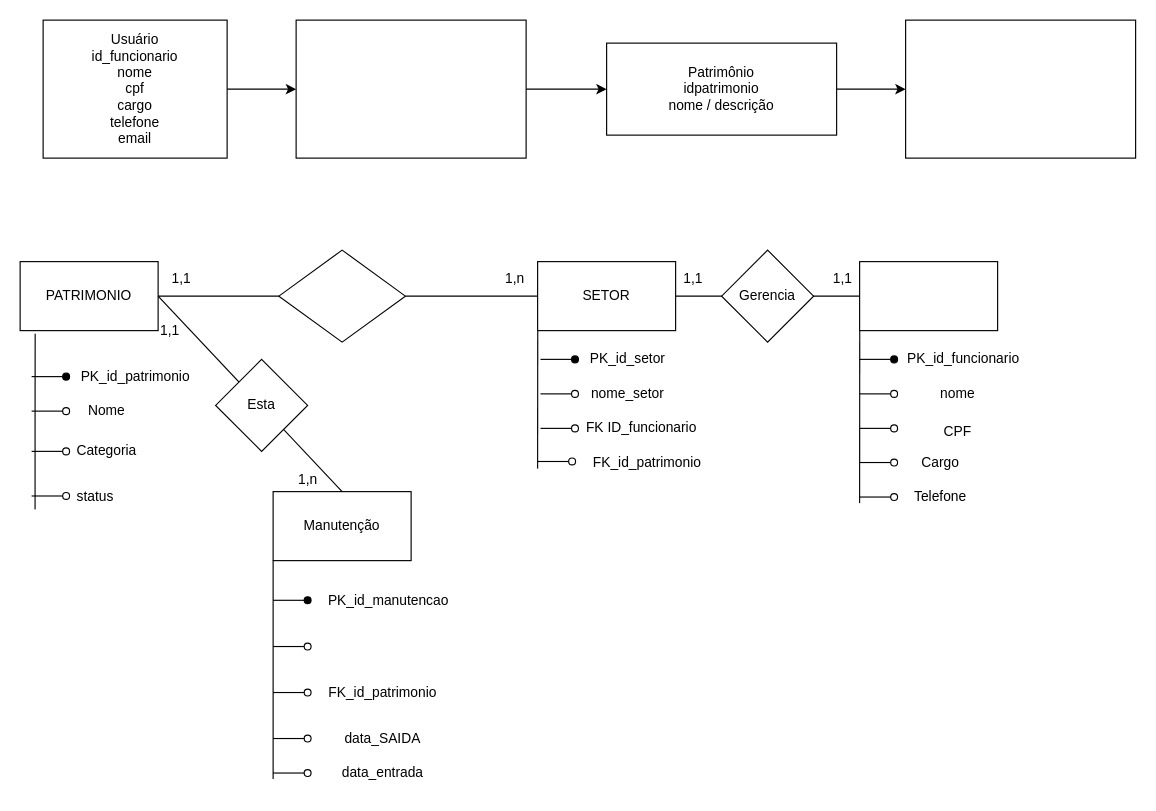
This 1156x811 diagram has some shape labels left out. The centre of each missing label's shape, as x and y in pixels:
"Contem" goes at [341,295].
"Funcionario" goes at [928,295].
"Manutenção id_manutenção data manutenção status idpatrimonio" goes at [1020,88].
"Setor / Local idsetor nome do setor responsável (id_funcionario)" goes at [410,88].
